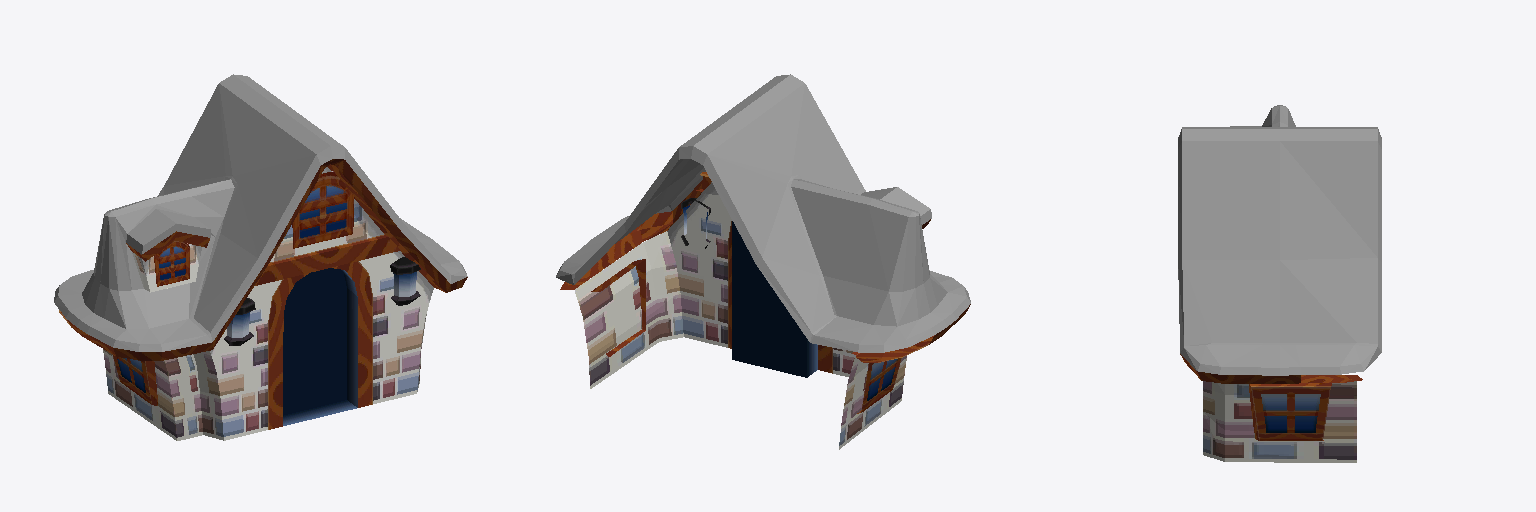
3 renders of one model, left to right at view 1: azimuth 30°, elevation 25°; view 2: azimuth 150°, elevation 25°; view 3: azimuth 270°, elevation 25°, orthographic.
Visible parts, largest first — view 1: vsn_mesh_0__mesh_0_.010, vsn_mesh_2__mesh_2_.002, vsn_mesh_1__mesh_1_.010; view 2: vsn_mesh_2__mesh_2_.002, vsn_mesh_0__mesh_0_.010; view 3: vsn_mesh_2__mesh_2_.002, vsn_mesh_0__mesh_0_.010.
Boxes of the visible parts, <box> form: vsn_mesh_0__mesh_0_.010: <box>59,159,467,440</box>; vsn_mesh_2__mesh_2_.002: <box>54,74,467,351</box>; vsn_mesh_1__mesh_1_.010: <box>224,257,420,345</box>; vsn_mesh_2__mesh_2_.002: <box>556,74,970,352</box>; vsn_mesh_0__mesh_0_.010: <box>560,172,970,449</box>; vsn_mesh_2__mesh_2_.002: <box>1178,105,1381,375</box>; vsn_mesh_0__mesh_0_.010: <box>1180,354,1362,462</box>.
Bounding box in the file's own units: 1.51 × 1.12 × 0.74.
3 materials, 1 textured.